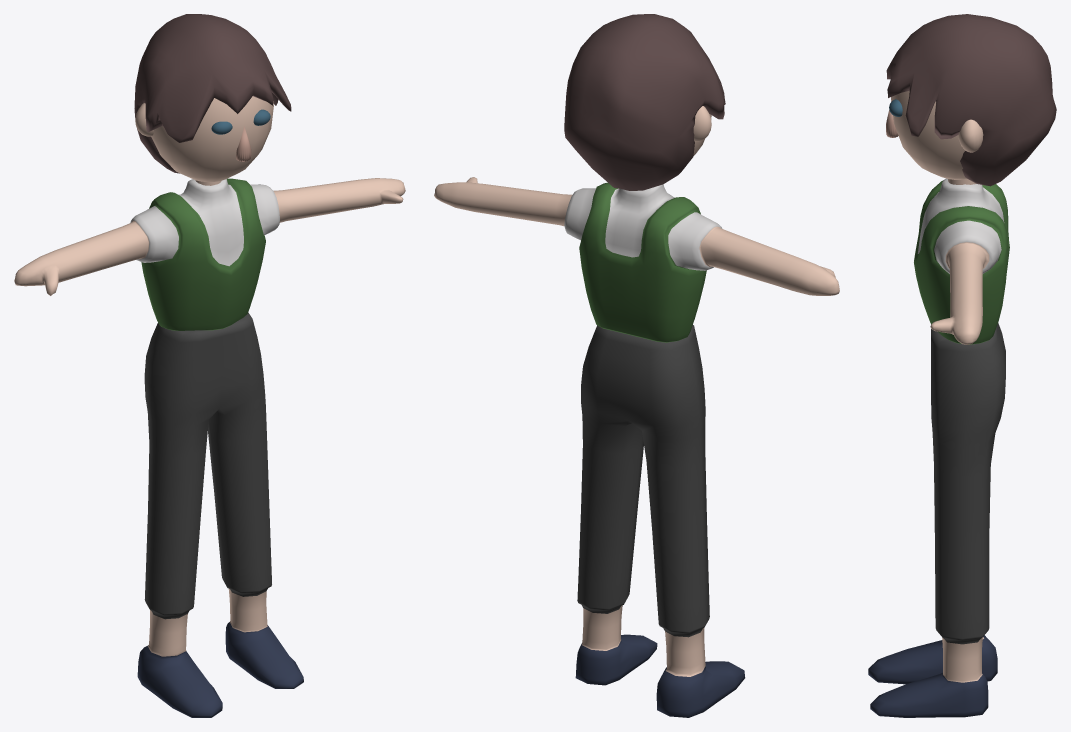
File: walking NPC.fbx
3 renders of one model, left to right at view 1: azimuth 30°, elevation 25°; view 2: azimuth 150°, elevation 25°; view 3: azimuth 270°, elevation 25°, orthographic. The views are drawn at different scales.
Visible parts, largest first — view 1: pCube13, pCube12, polySurface38; view 2: pCube13, pCube12, polySurface38; view 3: pCube13, polySurface38, pCube12.
Boxes of the visible parts, x1=… form: pCube13: x1=137, y1=312, x2=303, y2=717; pCube12: x1=14, y1=178, x2=405, y2=330; polySurface38: x1=134, y1=14, x2=291, y2=185; pCube13: x1=575, y1=325, x2=745, y2=717; pCube12: x1=434, y1=177, x2=839, y2=342; polySurface38: x1=564, y1=14, x2=725, y2=190; pCube13: x1=868, y1=323, x2=1005, y2=717; polySurface38: x1=886, y1=14, x2=1056, y2=186; pCube12: x1=914, y1=178, x2=1009, y2=344.
Bounding box in the file's own units: 25.38 × 40.59 × 10.19.
